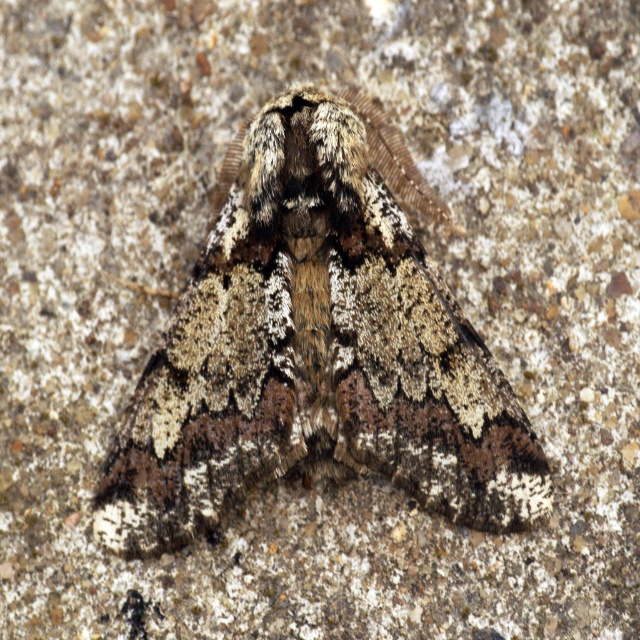Moths and butterflies: (85, 78, 559, 560)
